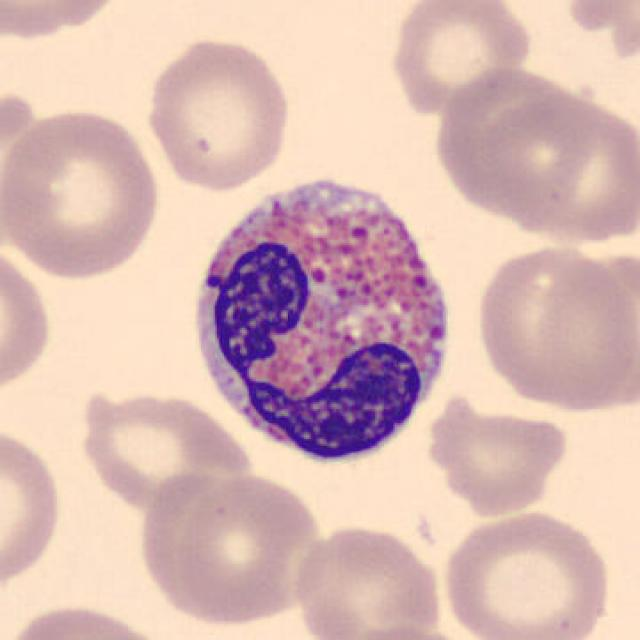Eosinophil: (178, 157, 466, 478)
RBC: (137, 470, 331, 628), (0, 102, 164, 284), (469, 240, 636, 414), (430, 59, 600, 220), (142, 33, 294, 194), (437, 506, 617, 640), (73, 386, 254, 513), (496, 88, 638, 249), (418, 392, 570, 518), (290, 520, 446, 638), (385, 0, 535, 116), (0, 418, 66, 603), (0, 236, 55, 402), (2, 599, 176, 640), (0, 0, 128, 41), (334, 620, 481, 640)
